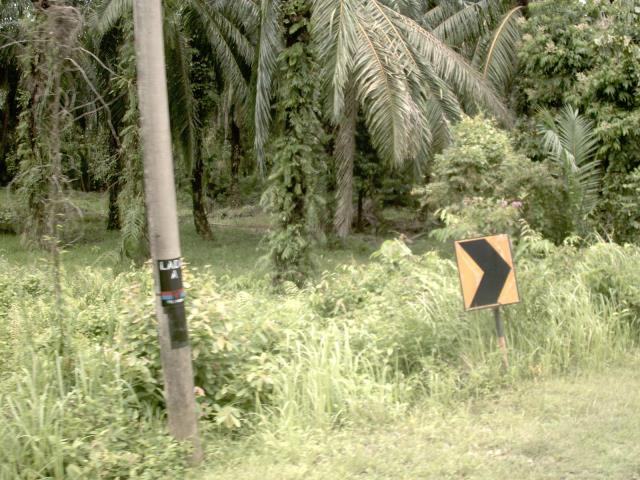traffic_sign: (446, 223, 527, 323)
